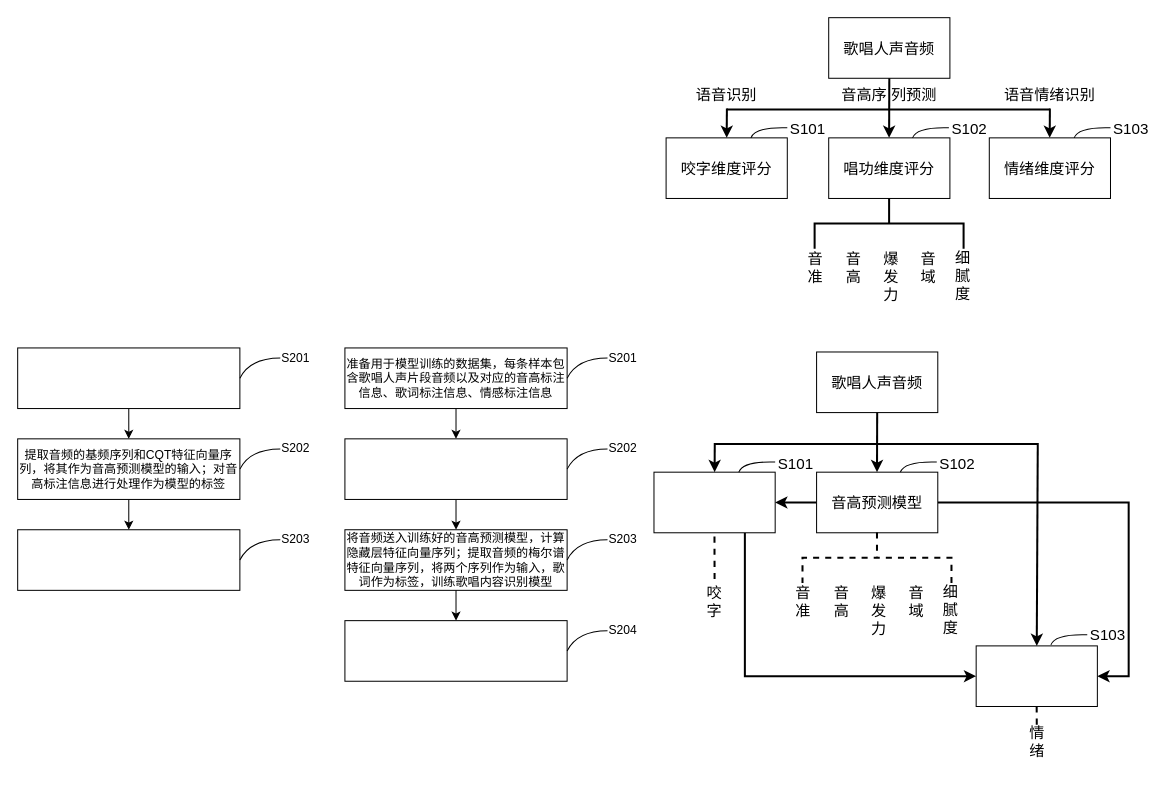
Image size: 1175x788. Some labels were removed from this diagram. Each missing label, with the centre of its shape:
准备用于音高预测模型训练的数据集，每条样本包含歌唱人声音频以及对应的音高标注信息: point 128,378
多模态歌唱 情感识别模型: point 1036,675
将歌词、隐藏层特征向量序列、梅尔谱特征向量序列作为输入，情感标注作为标签，训练多模态歌唱情感识别模型: point 455,650
提取音频的基频序列和CQT特征向量序列，将其作为音高预测模型的输入；对音高标注信息进行处理作为音高预测模型的标签，计算损失以训练模型: point 455,468
歌唱 内容识别模型: point 714,502
计算损失值通过反向梯度传播训练模型: point 128,559
